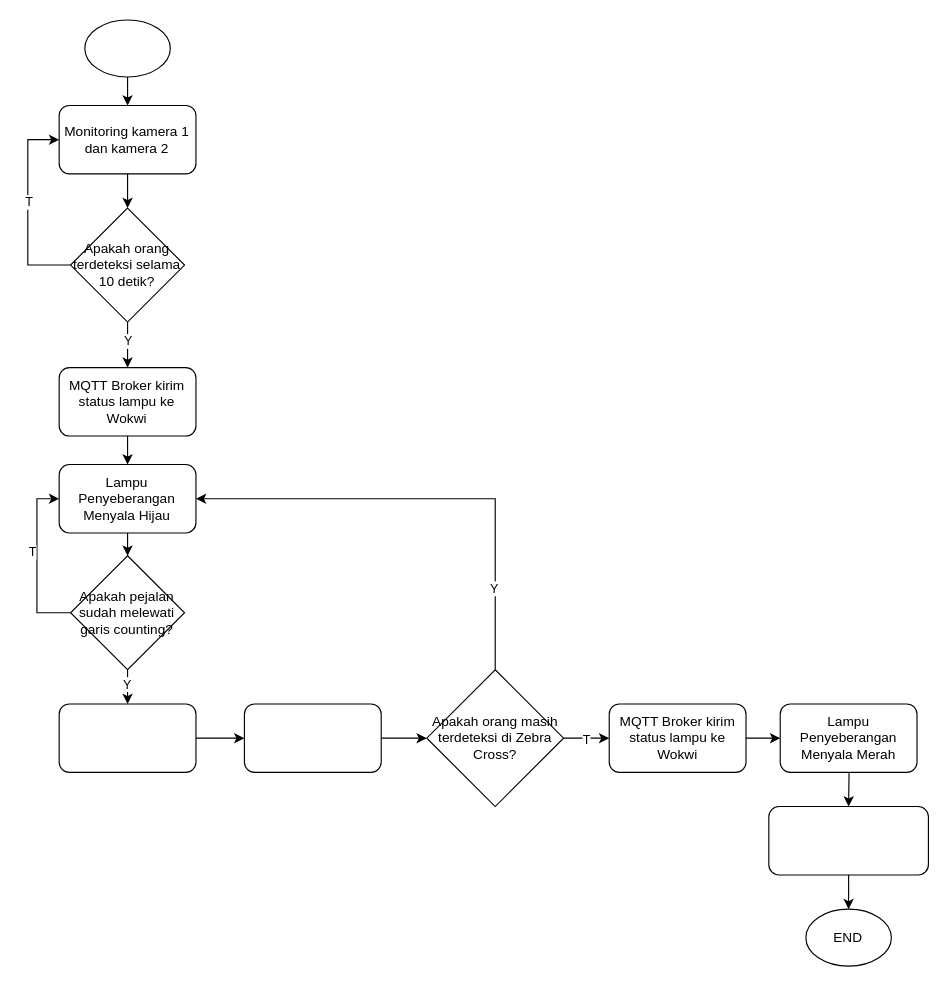
The diagram is 948 pixels wide and 986 high, and some of its shapes have lost their labels. Here are the shapes that lost their labels. From the top down, the centre of each, then its label:
(x=127, y=48): START
(x=127, y=737): Hitung Pejalan Kaki + Simpan ID + Waktu ke Database
(x=312, y=737): Update People Counting ke Website/Dashboard
(x=848, y=840): Update Status Lampu ke Website/Dashboard
